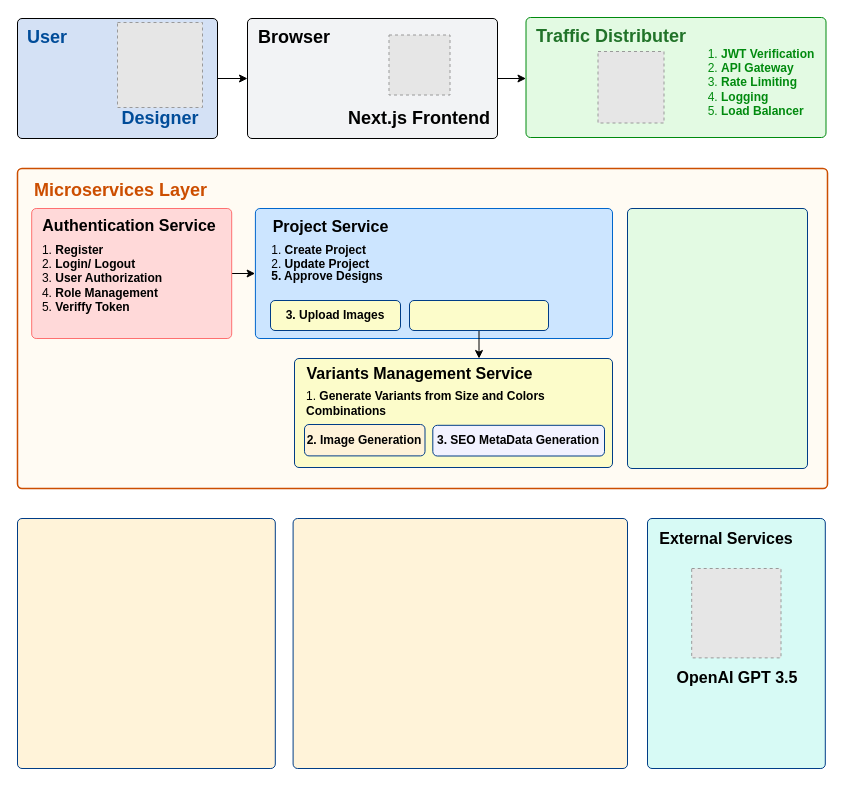
Some shapes in this 846 by 786 pixel diagram are drawn without their labels. Grey dashed boxes stand in for pictures. The box of each missing label's shape, as (x1, y1, x2, y2) in pixels:
4. Variant Generatios: (408, 300, 548, 330)
Notification Service: (626, 208, 808, 468)
